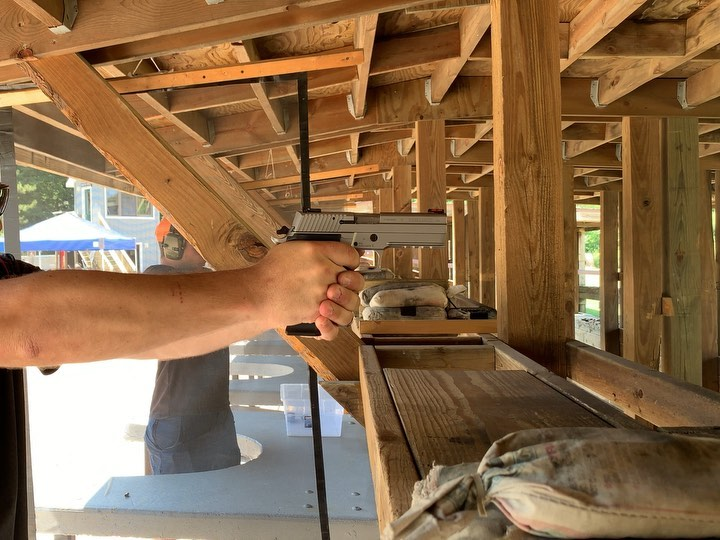gun: (275, 209, 452, 337)
